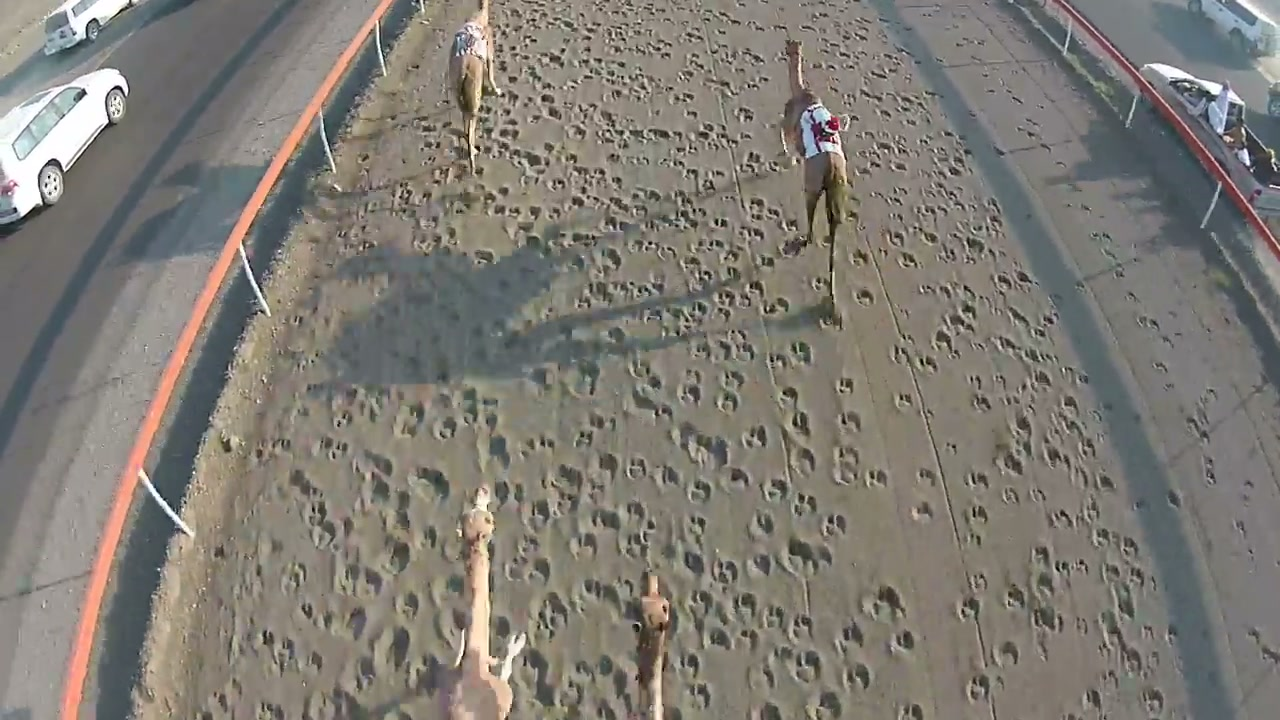animal_footprint: (335, 47, 900, 653), (839, 68, 1026, 700)
